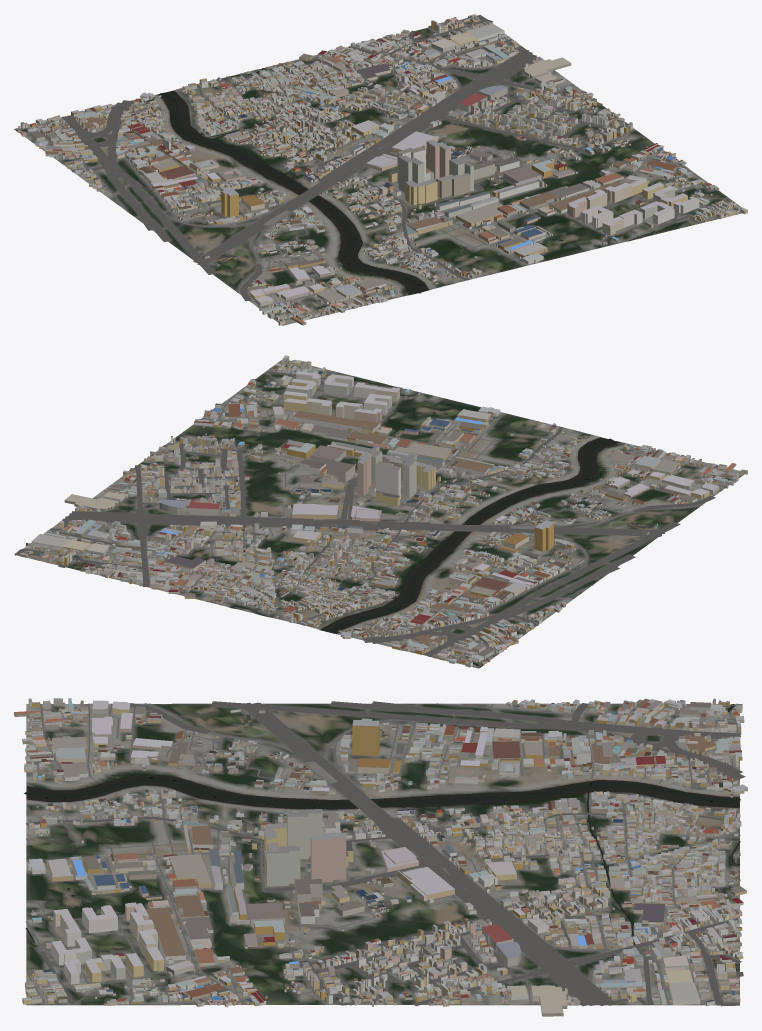
3 renders of one model, top to bottom at view 1: azimuth 30°, elevation 25°; view 2: azimuth 150°, elevation 25°; view 3: azimuth 270°, elevation 25°, orthographic. The views are drawn at different scales.
Visible parts, largest first — view 1: buildings, ground, roads, water; view 2: buildings, ground, roads, water; view 3: buildings, ground, roads, water.
Part boxes in pixels (box(x1,y1,x2,y2)): buildings: box(17, 14, 747, 325); ground: box(14, 18, 741, 325); roads: box(15, 15, 740, 321); water: box(16, 68, 649, 294); buildings: box(19, 355, 747, 667); ground: box(15, 360, 744, 668); roads: box(14, 364, 741, 667); water: box(147, 384, 620, 667); buildings: box(14, 698, 747, 1016); ground: box(26, 703, 739, 1005); roads: box(25, 701, 745, 1006); water: box(24, 704, 740, 944).
Bounding box in the file's own units: 1465 × 96.91 × 1440.
